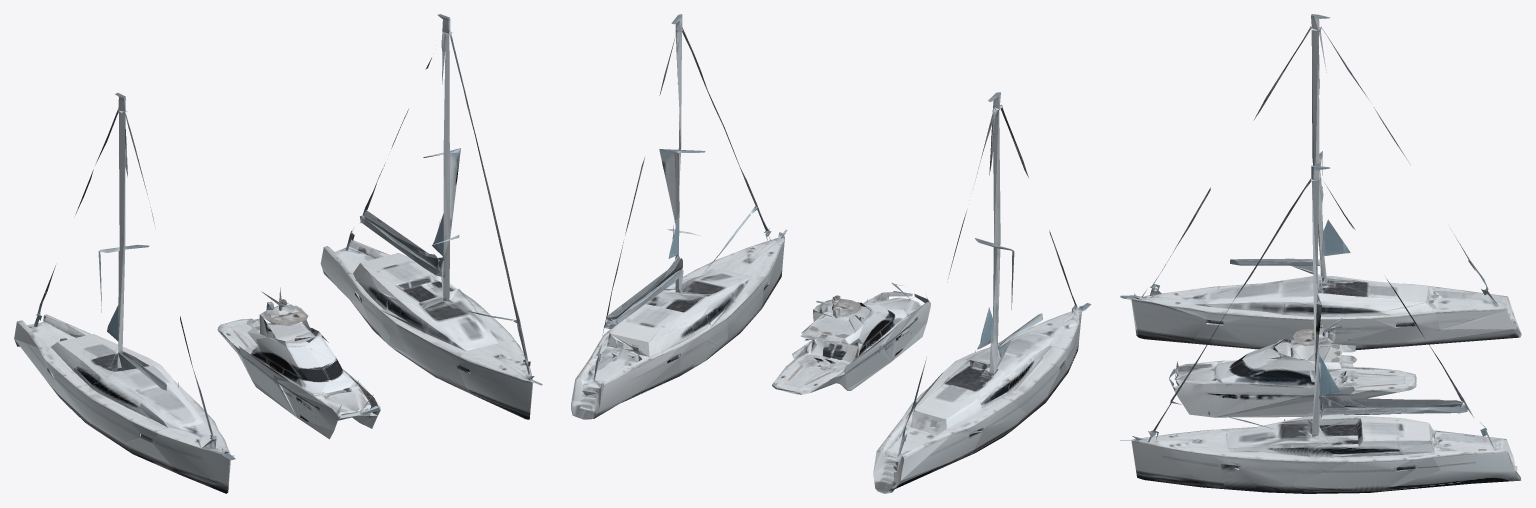
Rendered from bermuda-marina-kit.glb.
The picture shows the model from 3 angles, left to right: view 1: azimuth 30°, elevation 25°; view 2: azimuth 150°, elevation 25°; view 3: azimuth 270°, elevation 25°; orthographic projection. The views are drawn at different scales.
Parts seen in each view (by area): view 1: output_unwrapped; view 2: output_unwrapped; view 3: output_unwrapped.
Boxes of the visible parts, x1,y1,x2,y2 form: output_unwrapped: (14,14,542,493); output_unwrapped: (571,14,1091,493); output_unwrapped: (1120,14,1521,493).
Size of the model in its own units: 1.9 by 1.57 by 1.78.
1 material, 1 textured.
